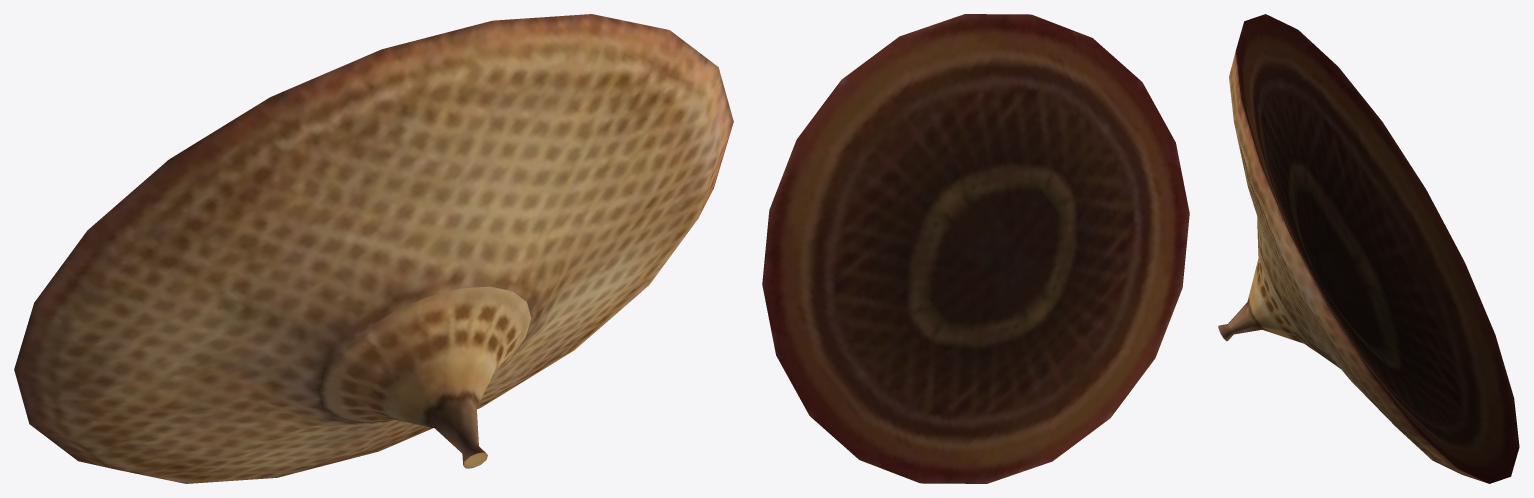
The model's file is hat.obj.
3 views of the same model, side by side, from view 1: azimuth 30°, elevation 25°; view 2: azimuth 150°, elevation 25°; view 3: azimuth 270°, elevation 25° (orthographic). The views are drawn at different scales.
Parts seen in each view (by area): view 1: dynamic; view 2: dynamic; view 3: dynamic.
Boxes of the visible parts, left/top/right/bottom form: dynamic: left=14, top=14, right=733, bottom=483; dynamic: left=762, top=14, right=1189, bottom=483; dynamic: left=1218, top=14, right=1519, bottom=483.
Bounding box in the file's own units: 5.6 × 4.74 × 3.19.
Materials: 1 (1 with a texture image).
